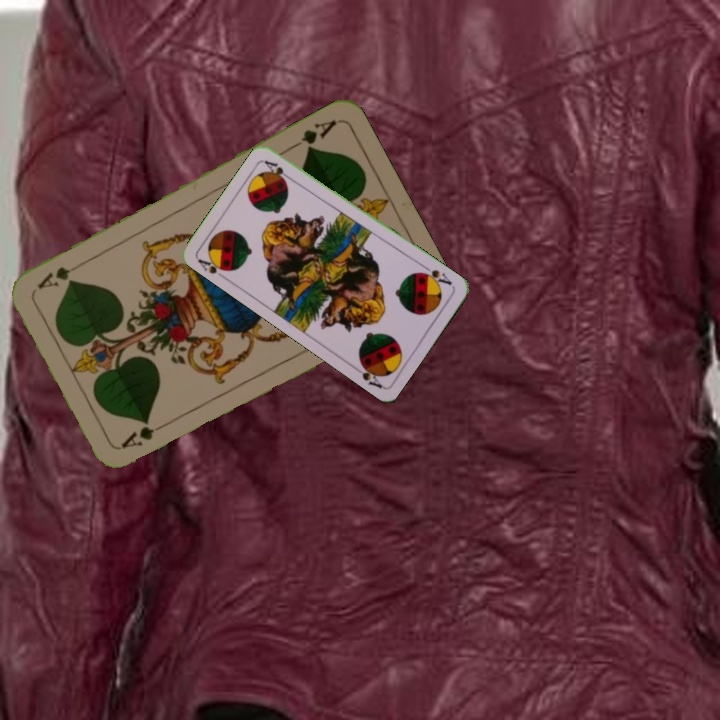GA: (286, 116, 339, 155), (117, 417, 173, 451)
SA: (193, 251, 234, 277), (416, 261, 454, 288)
